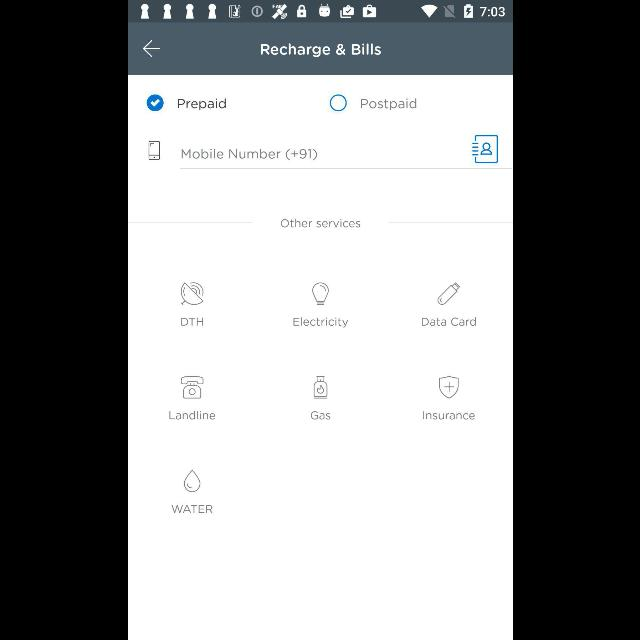checkbox: (328, 95, 346, 112), (146, 95, 162, 112)
icon: (471, 135, 497, 163), (183, 470, 200, 492), (142, 40, 160, 58)
image: (180, 282, 203, 306), (436, 282, 459, 306), (180, 376, 202, 398), (438, 376, 458, 398), (312, 282, 328, 306), (313, 376, 327, 398), (147, 142, 159, 160)
input: (180, 135, 512, 169)
text: (260, 43, 380, 57), (181, 150, 317, 160), (280, 219, 360, 229), (360, 99, 416, 111), (292, 316, 348, 328), (177, 99, 225, 111), (420, 317, 476, 327), (422, 412, 474, 421), (169, 410, 215, 420), (171, 504, 213, 514), (180, 318, 202, 327), (310, 412, 330, 421)
uppertaskbar: (128, 1, 512, 23)
